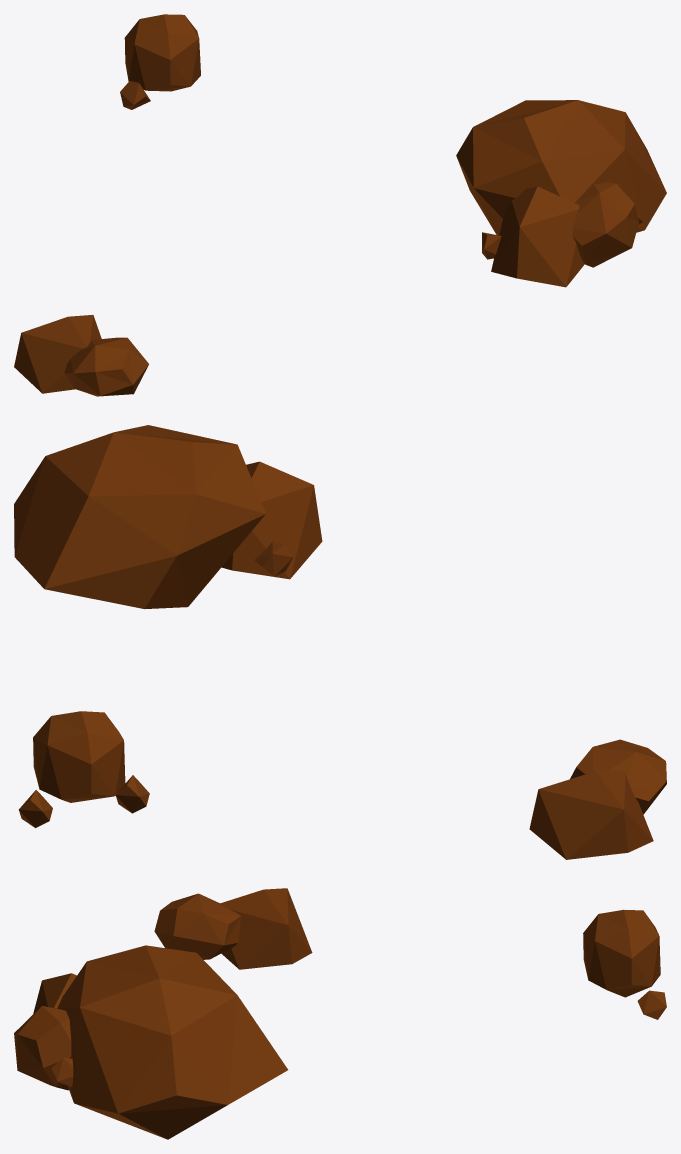
File: Mars_planet_cloud_003.FBX
3 renders of one model, top to bottom at view 1: azimuth 30°, elevation 25°; view 2: azimuth 150°, elevation 25°; view 3: azimuth 270°, elevation 25°, orthographic. The views are drawn at different scales.
Parts seen in each view (by area): view 1: 009_MARS PLANET_CLOUDS; view 2: 009_MARS PLANET_CLOUDS; view 3: 009_MARS PLANET_CLOUDS.
Part boxes in pixels (x1,y1,x2,y2): 009_MARS PLANET_CLOUDS: [14, 14, 666, 396]; 009_MARS PLANET_CLOUDS: [14, 425, 666, 859]; 009_MARS PLANET_CLOUDS: [14, 888, 666, 1139].
Bounding box in the file's own units: 13.31 × 4.43 × 12.4.
